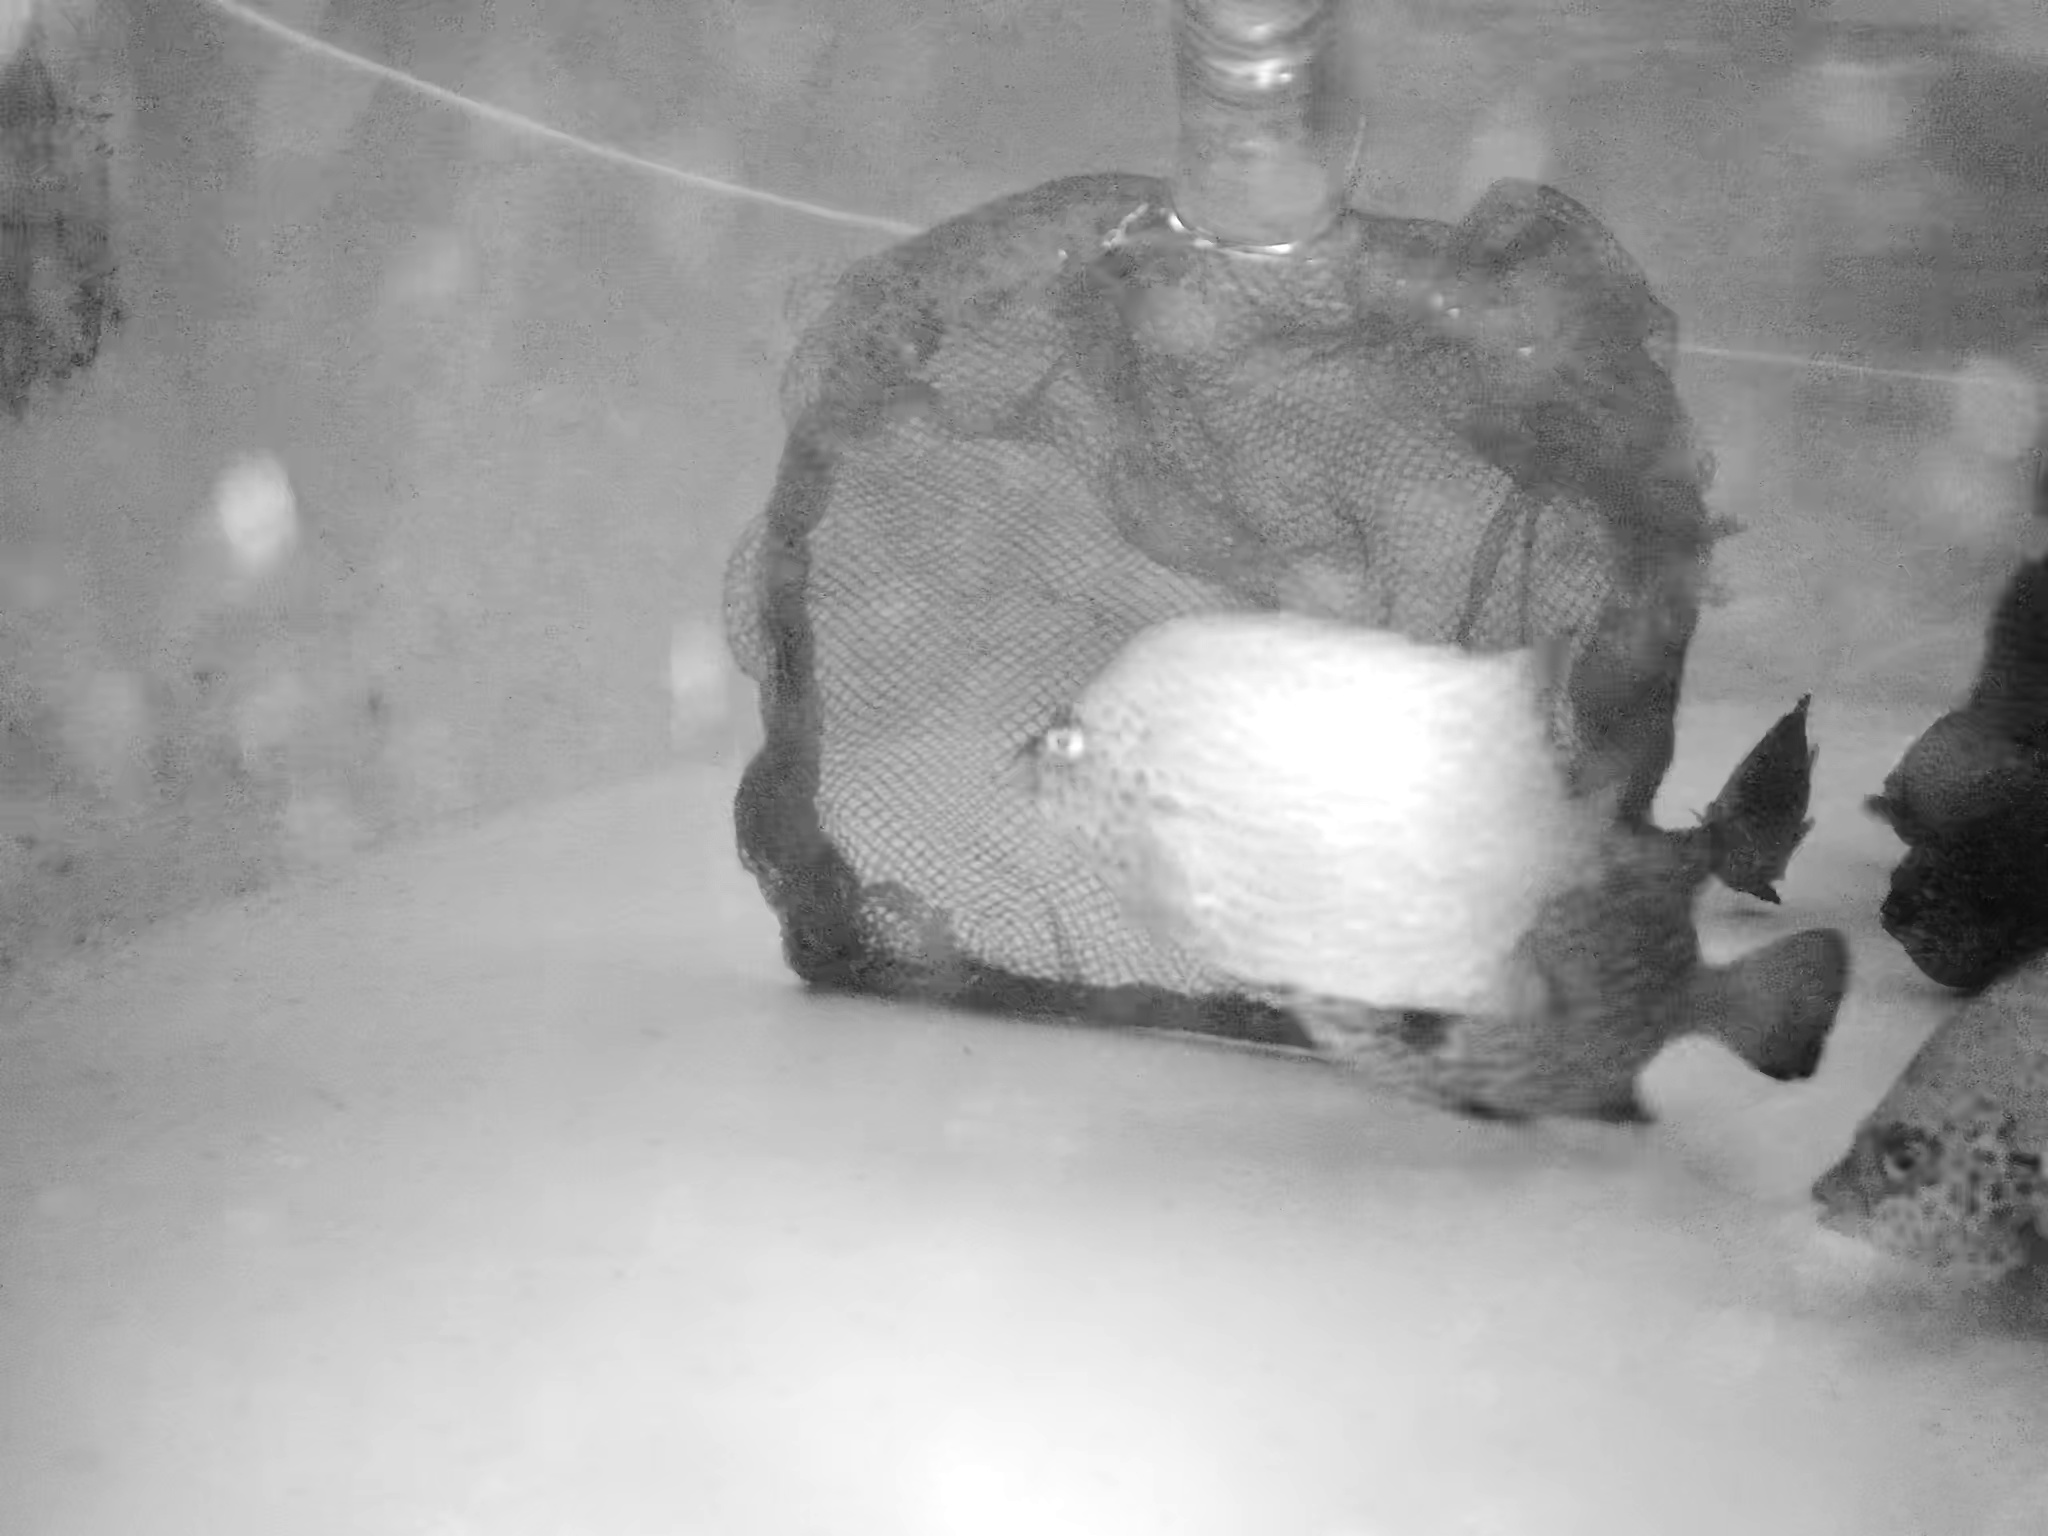fish: (1000, 628, 1808, 963), (1400, 860, 1842, 1105), (1795, 958, 2048, 1263), (1834, 553, 2048, 857), (1872, 792, 2048, 975)
